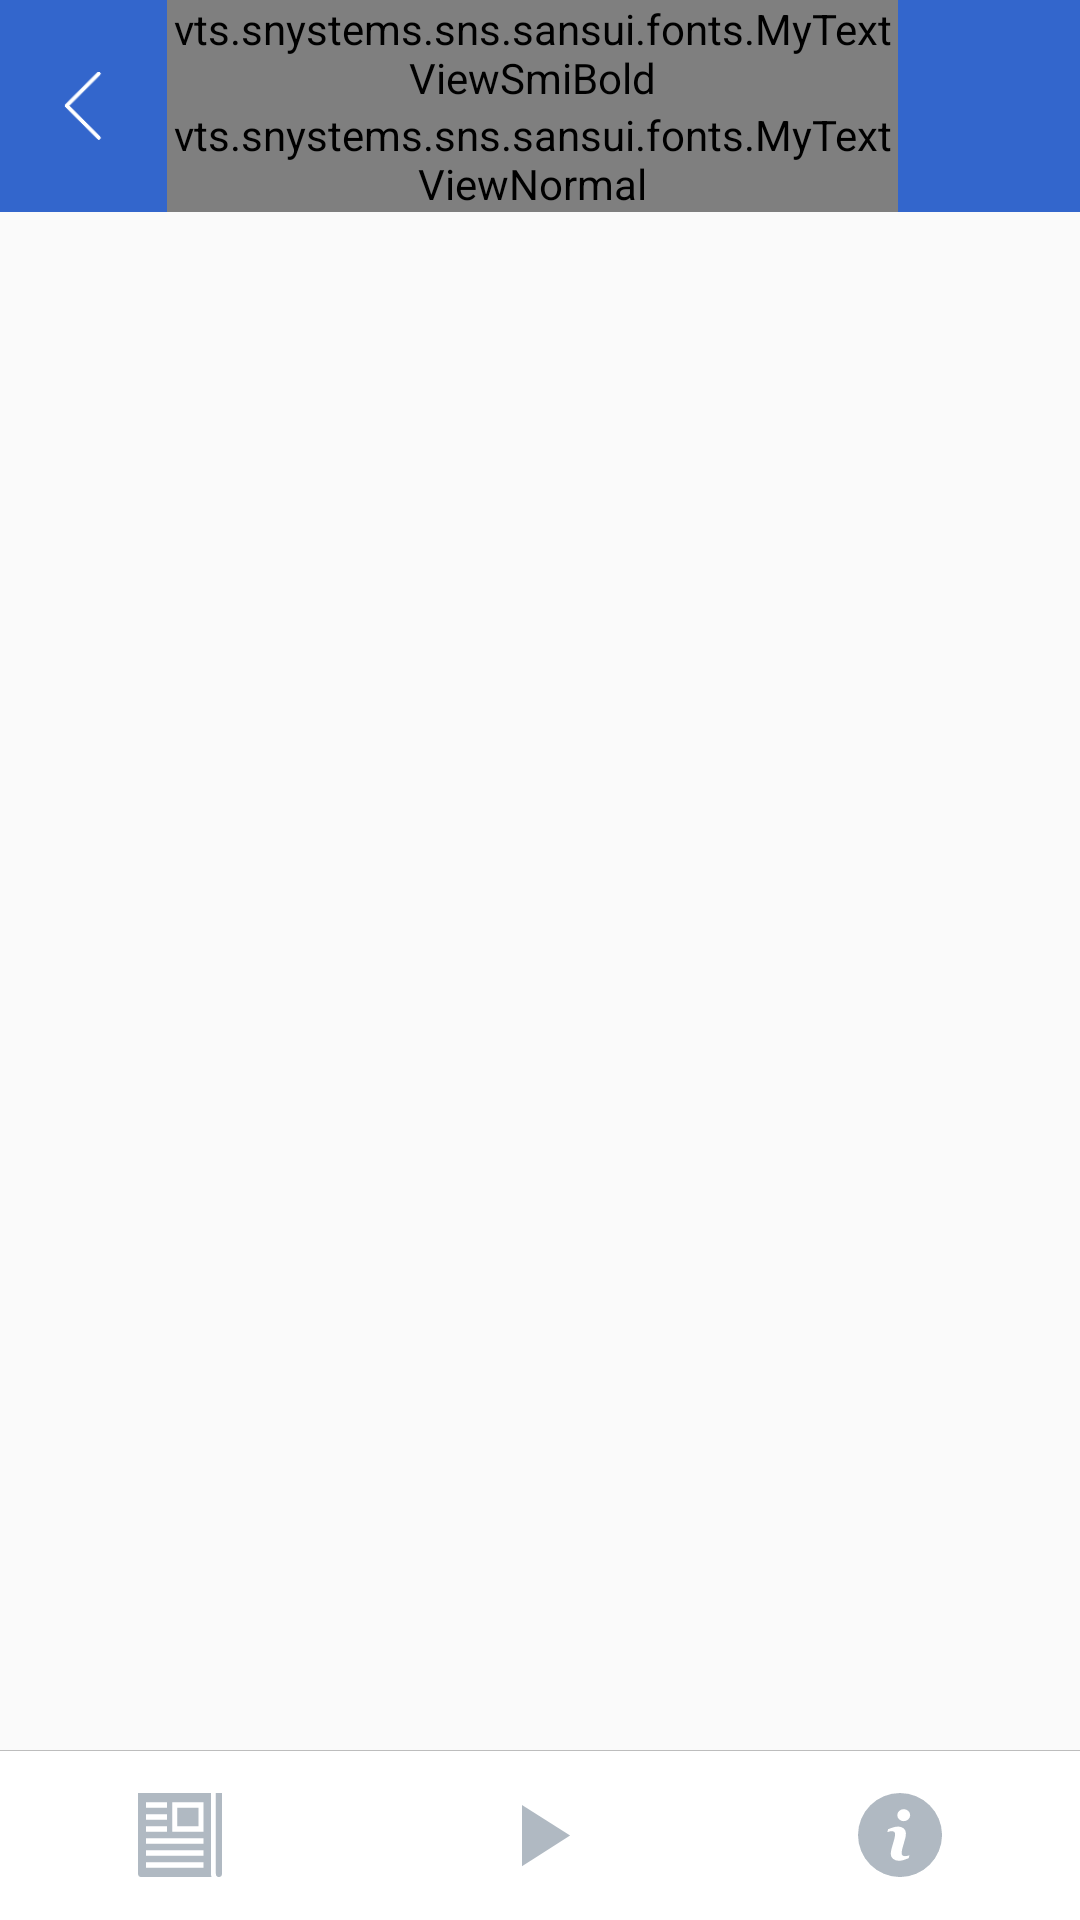

Point at icon controls on the screen. Image size 1080*1920, points as (x,y).
back: (83,106)
details: (180,1835)
info: (900,1835)
play arrow: (546,1835)
